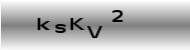2: (110, 9, 125, 23)
K: (67, 16, 86, 31)
V: (86, 24, 103, 40)
k: (35, 16, 50, 31)
s: (52, 22, 67, 34)
